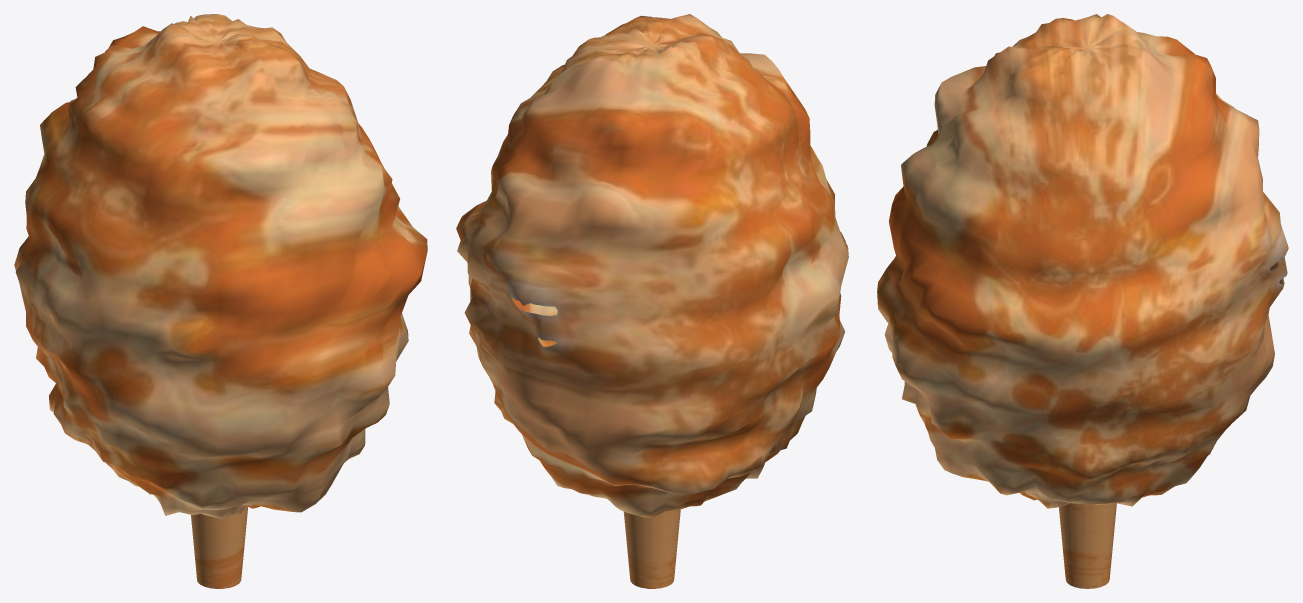
The model's file is ArbolN3.fbx.
The picture shows the model from 3 angles, left to right: view 1: azimuth 30°, elevation 25°; view 2: azimuth 150°, elevation 25°; view 3: azimuth 270°, elevation 25°; orthographic projection.
Parts seen in each view (by area): view 1: boom_008; view 2: boom_008; view 3: boom_008.
Part boxes in pixels (left/top/right/bottom): boom_008: left=14, top=14, right=427, bottom=588; boom_008: left=456, top=14, right=848, bottom=588; boom_008: left=877, top=14, right=1288, bottom=588.
Size of the model in its own units: 59.96 by 90.53 by 61.66.
1 material, 1 textured.
